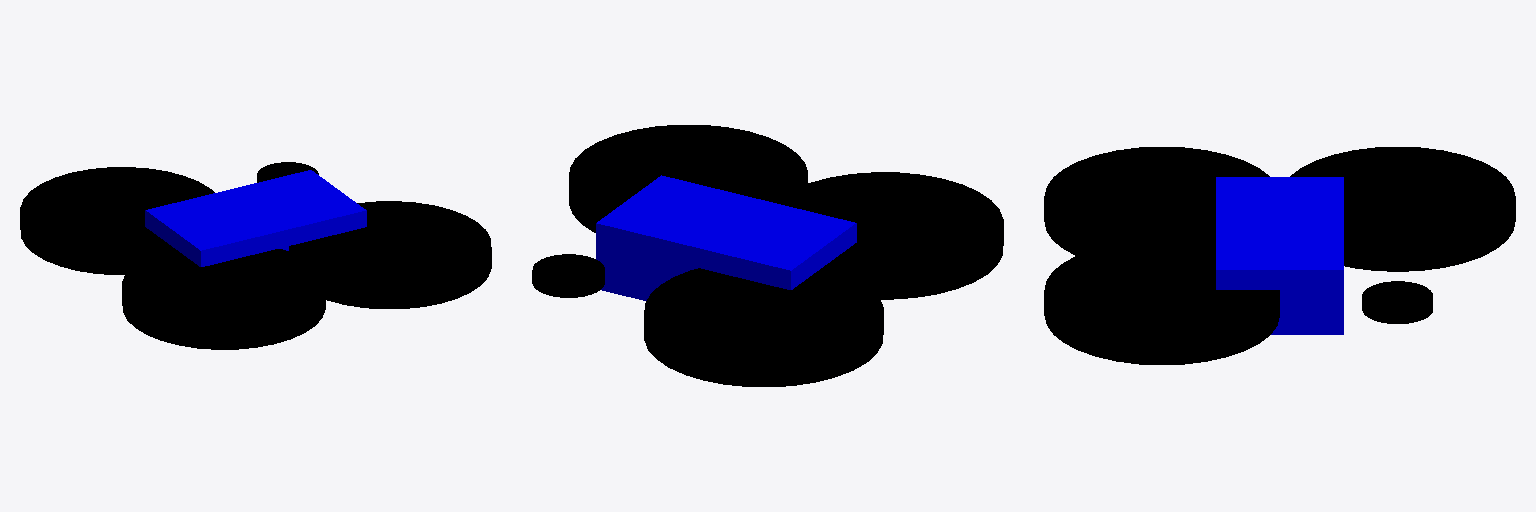
The robot description file, URDF, robot "omnibot":
<?xml version="1.0"?>

<robot name="omnibot" xmlns:xacro="http://www.ros.org/wiki/xacro">
 
  <link name="base_link">
    <visual>
      <origin xyz="0 0 0" rpy="0 0 0" />
      <geometry>
        <box size="0.31 0.18 0.10" />
      </geometry>
      <material name="blue">
        <color rgba="0.0 0.0 1.0 1.0"/>
      </material>
    </visual>
    <collision>
      <origin xyz="0 0 0" rpy="0 0 0" />
      <geometry>
        <box size="0.31 0.18 0.10" />
      </geometry>
    </collision>
    <inertial>
      <origin xyz="0 0 0" rpy="0 0 0" />
      <mass value="5.0"/>
      <inertia ixx="0.1" ixy="0.0" ixz="0.0" iyy="0.1" iyz="0.0" izz="0.1"/>
    </inertial>
  </link>

  <joint name="joint_front_left" type="continuous">
    <origin xyz="0.155 0.165 0" rpy="0 0 0"/>
    <parent link="base_link"/>
    <child link="wheel_front_left"/>
    <axis xyz="0 0 1"/>
  </joint>

  <link name="wheel_front_left">
    <visual>
      <origin xyz="0 0 0" rpy="0 0 0" />
      <geometry>
        <cylinder radius="0.05" length="0.02" />
      </geometry>
      <material name="black">
        <color rgba="0.0 0.0 0.0 1.0"/>
      </material>
    </visual>
    <collision>
      <origin xyz="0 0 0" rpy="0 0 0" />
      <geometry>
        <cylinder radius="0.05" length="0.02" />
      </geometry>
    </collision>
    <inertial>
      <origin xyz="0 0 0" rpy="0 0 0" />
      <mass value="1.0"/>2
      <inertia ixx="0.001" ixy="0.0" ixz="0.0" iyy="0.001" iyz="0.0" izz="0.001"/>
    </inertial>
  </link>

  <joint name="joint_front_right" type="continuous">
    <origin xyz="0.155 -0.165 0" rpy="0 0 0"/>
    <parent link="base_link"/>
    <child link="wheel_front_right"/>
    <axis xyz="0 0 1"/>
  </joint>

 <link name="wheel_front_right">
  <visual>
    <origin xyz="0 0 0" rpy="0 0 0" />
    <geometry>
      <cylinder radius="0.165" length="0.04" />
    </geometry>
    <material name="black">
      <color rgba="0.0 0.0 0.0 1.0"/>
    </material>
  </visual>
  <collision>
    <origin xyz="0 0 0" rpy="0 0 0" />
    <geometry>
      <cylinder radius="0.165" length="0.04" />
    </geometry>
  </collision>
  <inertial>
    <origin xyz="0 0 0" rpy="0 0 0" />
    <mass value="1.0"/>
    <inertia ixx="0.001" ixy="0.0" ixz="0.0" iyy="0.001" iyz="0.0" izz="0.001"/>
  </inertial>
</link>


  <joint name="joint_back_left" type="continuous">
    <origin xyz="-0.155 0.165 0" rpy="0 0 0"/>
    <parent link="base_link"/>
    <child link="wheel_back_left"/>
    <axis xyz="0 0 1"/>
  </joint>

  <link name="wheel_back_left">
    <visual>
      <origin xyz="0 0 0" rpy="0 0 0" />
      <geometry>
        <cylinder radius="0.165" length="0.04" />
      </geometry>
      <material name="black">
        <color rgba="0.0 0.0 0.0 1.0"/>
      </material>
    </visual>
    <collision>
      <origin xyz="0 0 0" rpy="0 0 0" />
      <geometry>
        <cylinder radius="0.165" length="0.04" />
      </geometry>
    </collision>
    <inertial>
      <origin xyz="0 0 0" rpy="0 0 0" />
      <mass value="1.0"/>
      <inertia ixx="0.001" ixy="0.0" ixz="0.0" iyy="0.001" iyz="0.0" izz="0.001"/>
    </inertial>
  </link>

  <joint name="joint_back_right" type="continuous">
    <origin xyz="-0.155 -0.165 0" rpy="0 0 0"/>
    <parent link="base_link"/>
    <child link="wheel_back_right"/>
    <axis xyz="0 0 1"/>
  </joint>

  <link name="wheel_back_right">
    <visual>
      <origin xyz="0 0 0" rpy="0 0 0" />
      <geometry>
        <cylinder radius="0.165" length="0.04" />
      </geometry>
      <material name="black">
        <color rgba="0.0 0.0 0.0 1.0"/>
      </material>
    </visual>
    <collision>
      <origin xyz="0 0 0" rpy="0 0 0" />
      <geometry>
        <cylinder radius="0.165" length="0.04" />
      </geometry>
    </collision>
    <inertial>
      <origin xyz="0 0 0" rpy="0 0 0" />
      <mass value="1.0"/>
      <inertia ixx="0.001" ixy="0.0" ixz="0.0" iyy="0.001" iyz="0.0" izz="0.001"/>
    </inertial>
  </link>

</robot>

--- What the picture shows (computed from the rendered views, not written in the file) ---
3 views of the same robot in one strip: view 1: azimuth 30°, elevation 25°; view 2: azimuth 150°, elevation 25°; view 3: azimuth 270°, elevation 25° (orthographic).
Robot: omnibot — 5 links, 4 joints (4 continuous); root link base_link; default pose: every joint at zero.
Visible links, largest first — view 1: wheel_back_right, wheel_front_right, wheel_back_left, base_link, wheel_front_left; view 2: wheel_back_left, base_link, wheel_back_right, wheel_front_right, wheel_front_left; view 3: wheel_front_right, wheel_back_left, base_link, wheel_back_right, wheel_front_left.
Boxes of the visible links, box(x1,y1,x2,y2) form: wheel_back_right: box(122, 247, 325, 349); wheel_front_right: box(289, 201, 491, 308); wheel_back_left: box(20, 167, 214, 274); base_link: box(145, 170, 366, 266); wheel_front_left: box(257, 162, 318, 182); wheel_back_left: box(644, 267, 883, 386); base_link: box(596, 175, 856, 300); wheel_back_right: box(775, 172, 1003, 299); wheel_front_right: box(569, 125, 807, 232); wheel_front_left: box(532, 254, 604, 297); wheel_front_right: box(1044, 240, 1279, 364); wheel_back_left: box(1290, 147, 1515, 271); base_link: box(1216, 177, 1343, 334); wheel_back_right: box(1044, 147, 1269, 255); wheel_front_left: box(1362, 281, 1432, 323).
Bounding box of the posed robot: 0.64 × 0.66 × 0.1 m (x, y, z).
Geometry: primitives only (box / cylinder / sphere), no mesh files.